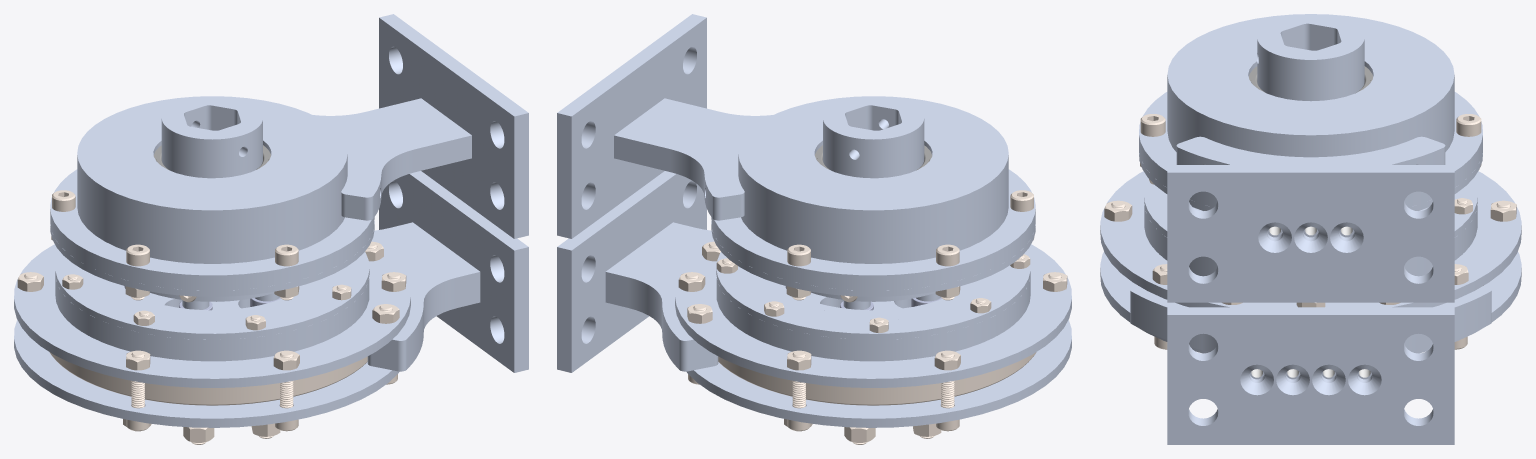
Rendered from shoulder.glb.
The picture shows the model from 3 angles, left to right: view 1: azimuth 30°, elevation 25°; view 2: azimuth 150°, elevation 25°; view 3: azimuth 270°, elevation 25°; orthographic projection. The views are drawn at different scales.
Visible parts, largest first — view 1: stage 1 housing 1.0-1, stage 1 base plate-1, stage 2 mount plate-2, stage 2 base plate-1, stage 2 housing 2.0-1, stage 2 mount plate-1, stage 1 mount-1, stage 2 mount-1, shaft 4-1, stage 2 housing 1.0-1, radial ball bearing_68_am-1, stage 1 housing 2.0-1 (+4 smaller); view 2: stage 1 housing 1.0-1, stage 1 base plate-1, stage 2 mount plate-2, stage 2 base plate-1, stage 2 housing 2.0-1, stage 2 mount plate-1, stage 1 mount-1, stage 2 mount-1, shaft 4-1, stage 2 housing 1.0-1, radial ball bearing_68_am-1, stage 1 housing 2.0-1 (+5 smaller); view 3: stage 1 base plate-1, stage 2 base plate-1, stage 1 housing 1.0-1, stage 2 mount plate-2, shaft 4-1, stage 1 mount-1, stage 2 mount-1, stage 2 mount plate-1, stage 2 housing 1.0-1, stage 2 housing 2.0-1, stage 1 housing 2.0-1, socket head cap screw_am-7 (+3 smaller).
Boxes of the visible parts, x1,y1,x2,y2 form: stage 1 housing 1.0-1: (50,96,374,290); stage 1 base plate-1: (379,14,528,238); stage 2 mount plate-2: (14,244,410,387); stage 2 base plate-1: (379,171,528,372); stage 2 housing 2.0-1: (55,252,369,339); stage 2 mount plate-1: (14,319,399,427); stage 1 mount-1: (313,98,471,220); stage 2 mount-1: (367,222,480,371); shaft 4-1: (161,96,262,178); stage 2 housing 1.0-1: (55,277,369,361); radial ball bearing_68_am-1: (49,352,367,405); stage 1 housing 2.0-1: (50,221,374,296); stage 1 housing 1.0-1: (711,96,1035,290); stage 1 base plate-1: (557,14,706,238); stage 2 mount plate-2: (675,244,1071,387); stage 2 base plate-1: (557,171,706,372); stage 2 housing 2.0-1: (716,252,1030,339); stage 2 mount plate-1: (686,319,1071,427); stage 1 mount-1: (614,98,772,220); stage 2 mount-1: (605,222,718,371); shaft 4-1: (823,96,924,178); stage 2 housing 1.0-1: (716,277,1030,361); radial ball bearing_68_am-1: (718,352,1036,405); stage 1 housing 2.0-1: (711,221,1035,296); stage 1 base plate-1: (1167,165,1454,302); stage 2 base plate-1: (1167,307,1454,444); stage 1 housing 1.0-1: (1139,14,1482,207); stage 2 mount plate-2: (1100,171,1521,307); shaft 4-1: (1257,14,1364,101); stage 1 mount-1: (1176,136,1445,237); stage 2 mount-1: (1130,286,1491,379); stage 2 mount plate-1: (1100,252,1521,353); stage 2 housing 1.0-1: (1144,204,1477,276); stage 2 housing 2.0-1: (1144,179,1477,258); stage 1 housing 2.0-1: (1139,151,1482,210); socket head cap screw_am-7: (1456,114,1481,136).
Bounding box in the file's own units: 0.1438 × 0.092 × 0.1174.
